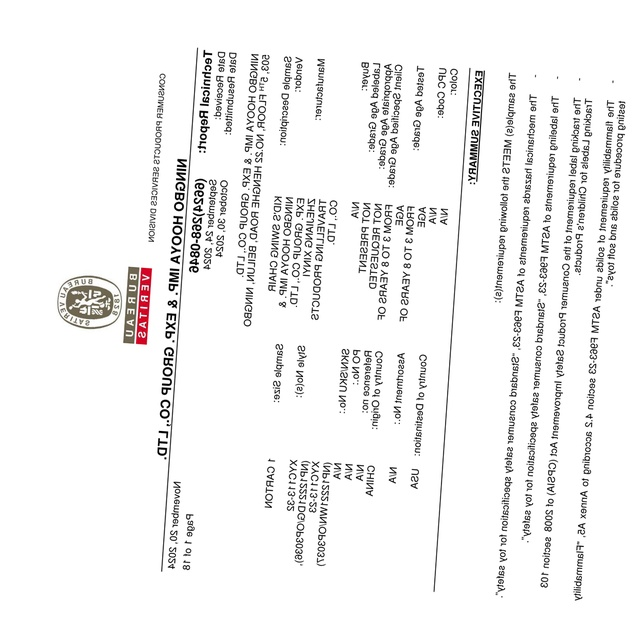bureau_veritas: (54, 265, 152, 347)
